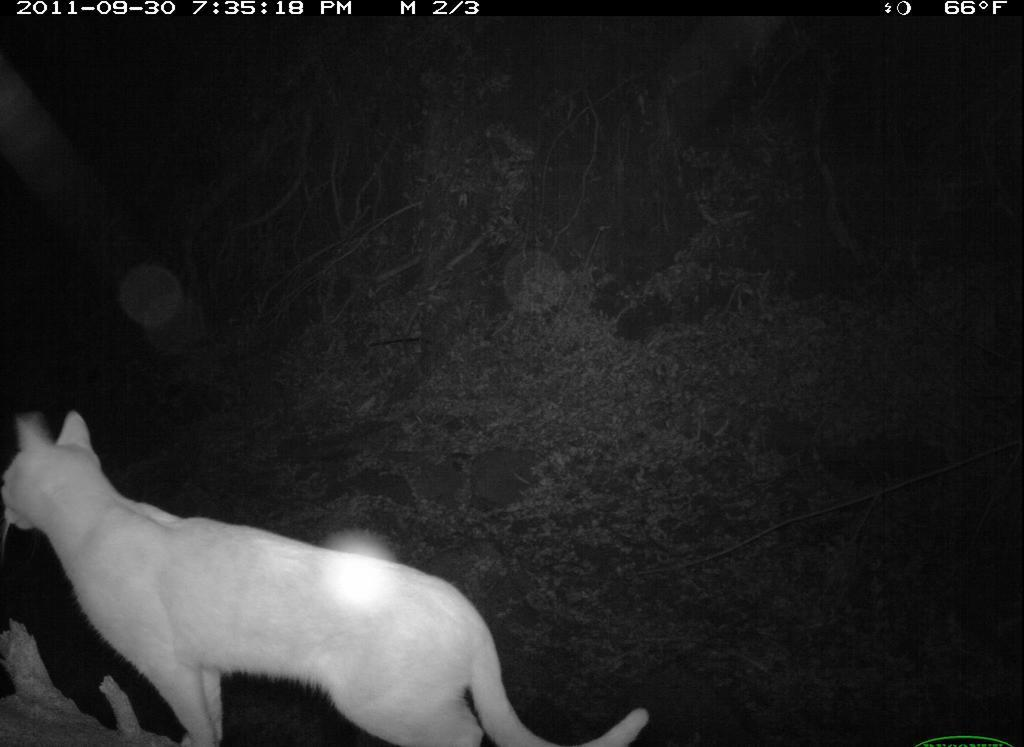cat: (13, 399, 679, 744)
